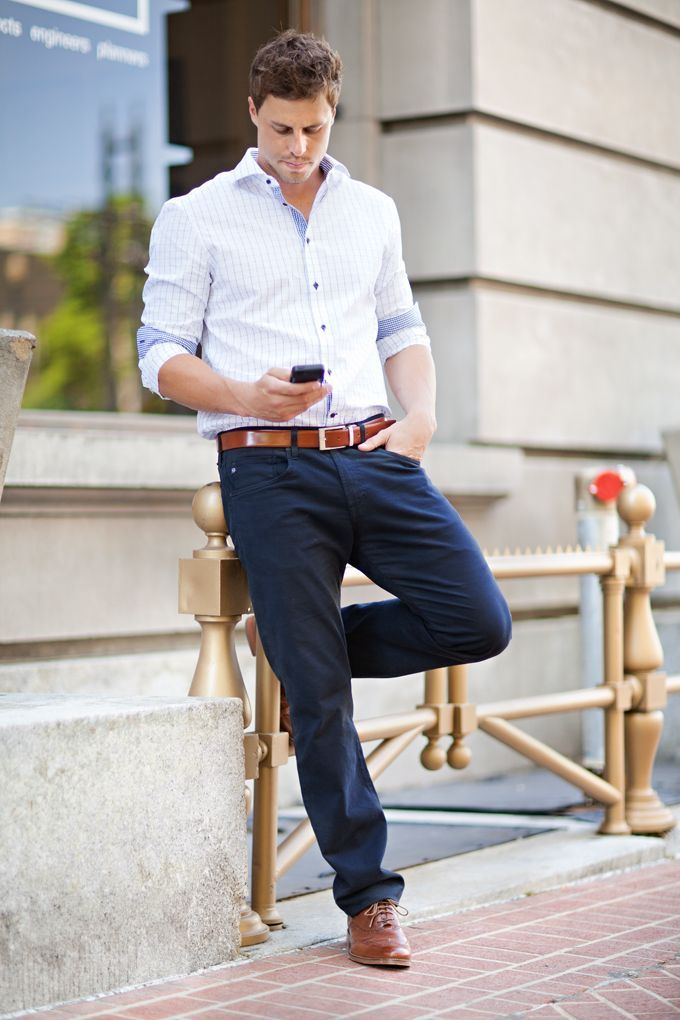F_belt: (196, 413, 412, 463)
F_dress pants: (211, 460, 511, 894)
F_shirt: (148, 155, 436, 434)
